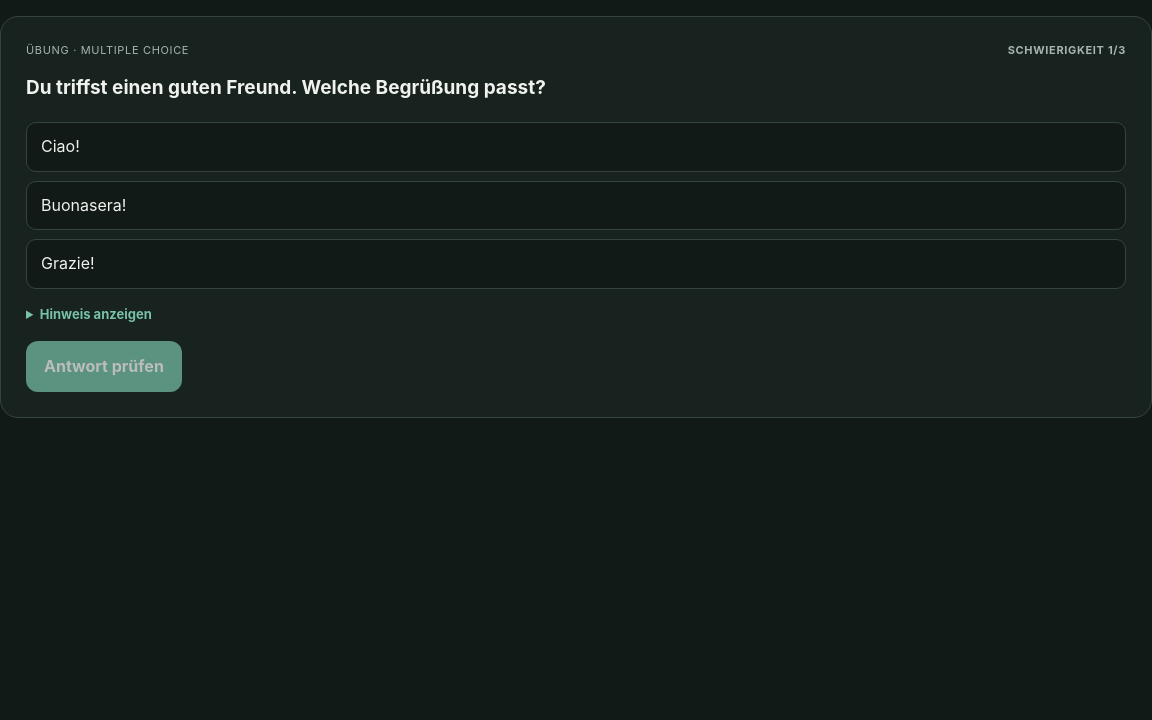
Scenario: Übungsbewertung › zeigt bei einer falschen Antwort erklärendes Feedback
What coordinates should you click on to do the following:
click the button "Grazie!"
I would click on:
 (68, 263)
Its box is x1=26 y1=239 x2=1126 y2=289.
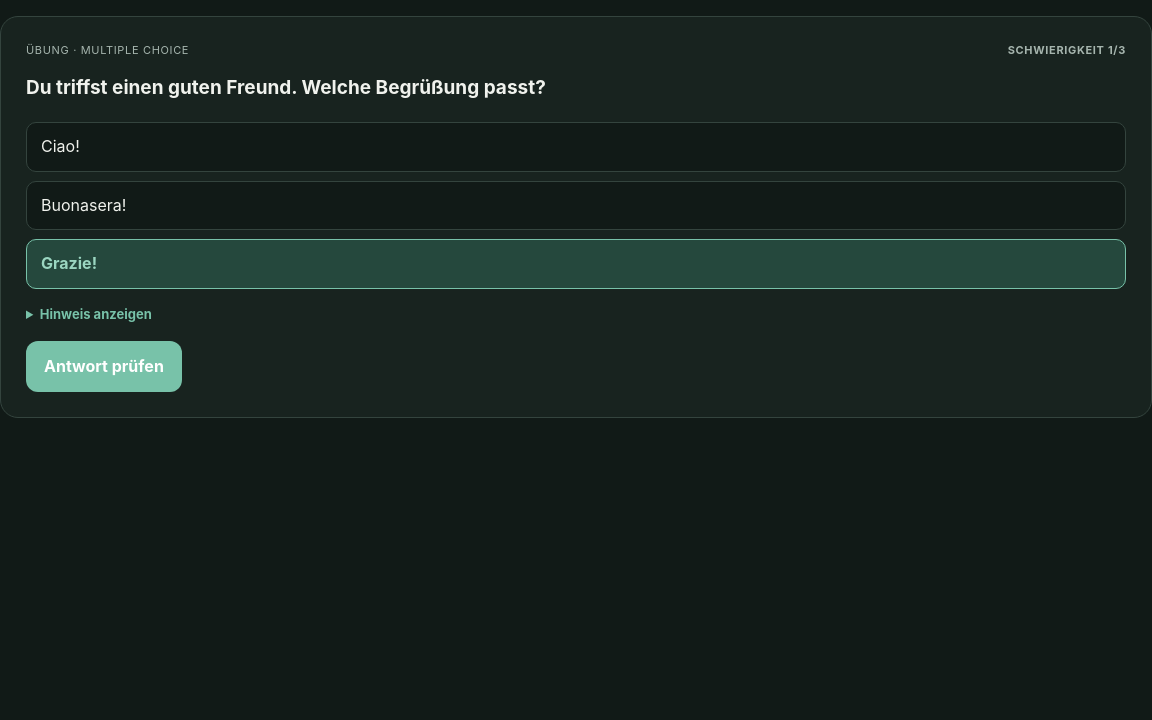
What coordinates should you click on to do the following:
click the button "Antwort prüfen"
I would click on:
 (104, 366)
Its box is x1=26 y1=341 x2=182 y2=392.
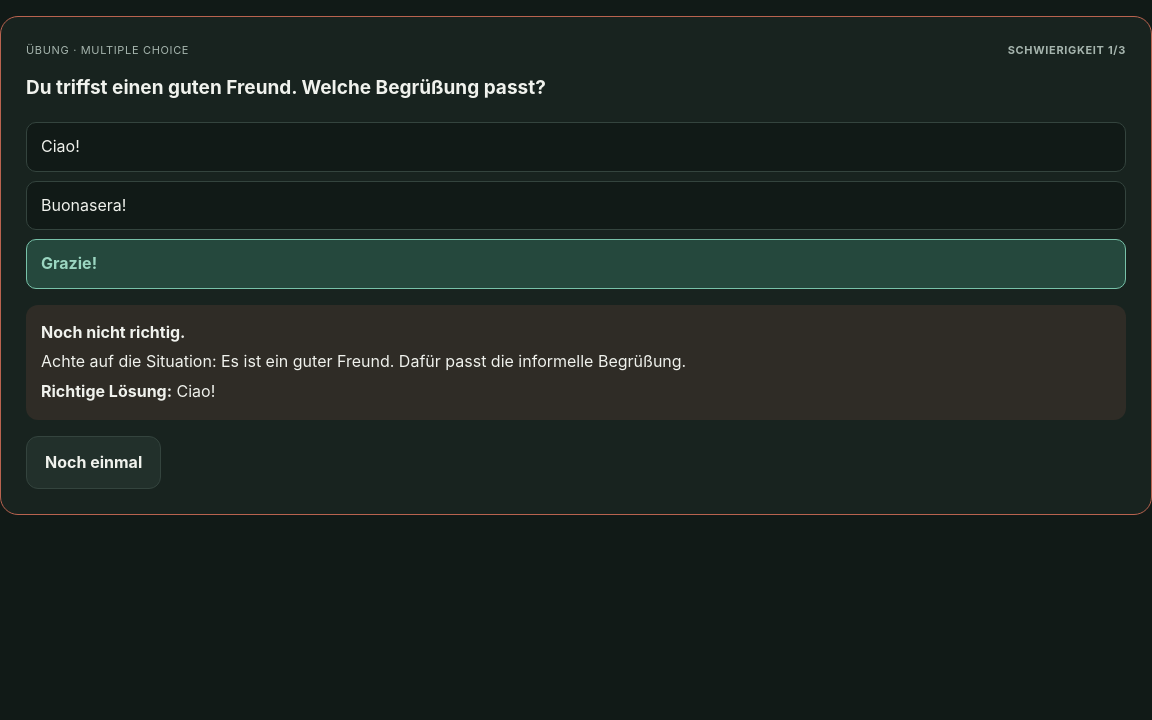
expect the message shows "Noch nicht richtig": met, box x1=41 y1=322 x2=185 y2=342
expect the message shows "Richtige Lösung: Ciao!": met, box x1=26 y1=305 x2=1126 y2=420
